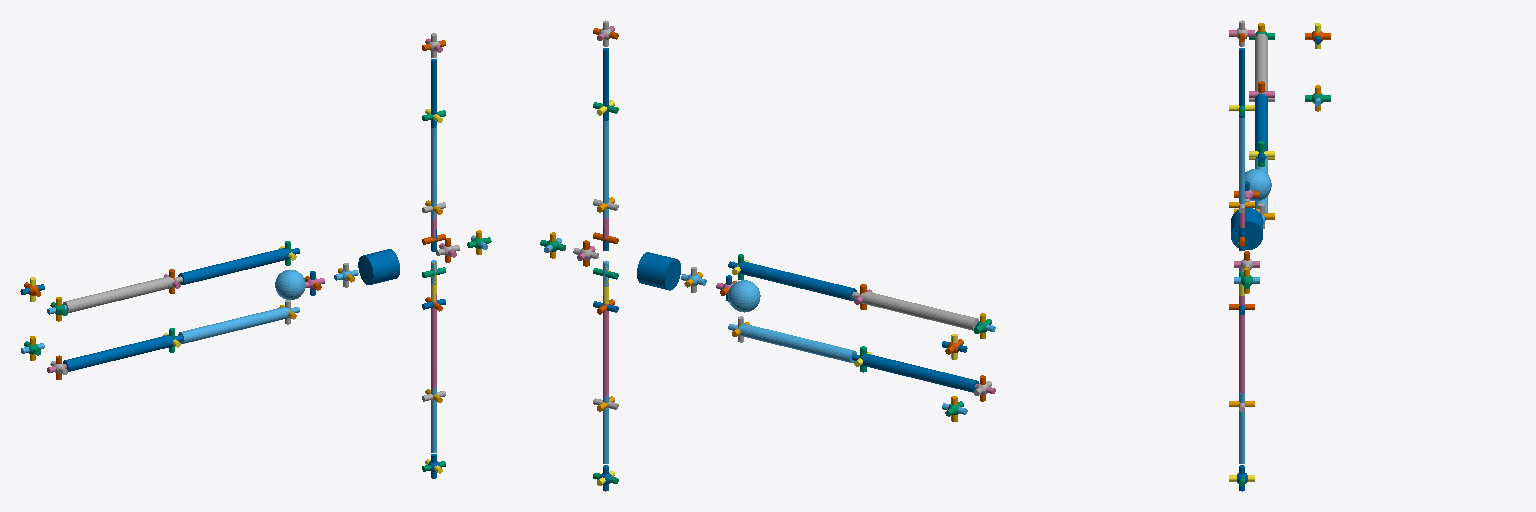
--- Facts derived from the render (not from the file) ---
3 views of the same robot in one strip: view 1: azimuth 30°, elevation 25°; view 2: azimuth 150°, elevation 25°; view 3: azimuth 270°, elevation 25° (orthographic).
Model bvh_human_3dof_tpose with 70 links and 69 joints (68 revolute, 1 floating), rooted at world, posed every joint at zero.
Visible links, largest first — view 1: LeftUpLeg, RightUpLeg, LeftLeg, RightLeg, Spine2, Hips; view 2: LeftUpLeg, RightUpLeg, LeftLeg, RightLeg, Spine2, Hips, LeftArm, RightArm; view 3: Spine2, LeftUpLeg, LeftLeg, Hips, RightArm.
Boxes of the visible links, <box> form: LeftUpLeg: <box>178,248,299,284</box>; RightUpLeg: <box>178,307,299,343</box>; LeftLeg: <box>63,276,182,312</box>; RightLeg: <box>63,335,182,371</box>; Spine2: <box>358,249,399,284</box>; Hips: <box>275,270,304,299</box>; LeftUpLeg: <box>728,261,856,300</box>; RightUpLeg: <box>728,324,856,362</box>; LeftLeg: <box>852,291,978,330</box>; RightLeg: <box>852,354,978,392</box>; Spine2: <box>637,252,680,290</box>; Hips: <box>728,280,760,312</box>; LeftArm: <box>603,118,608,217</box>; RightArm: <box>603,296,608,396</box>; Spine2: <box>1231,208,1262,249</box>; LeftUpLeg: <box>1255,93,1267,162</box>; LeftLeg: <box>1255,34,1267,93</box>; Hips: <box>1245,169,1271,200</box>; RightArm: <box>1239,296,1244,393</box>.
Size in the robot's own frame: 1.63 by 0.3124 by 1.59 metres.
Geometry: primitives only (box / cylinder / sphere), no mesh files.

URDF robot description (bvh_human_3dof_tpose):
<?xml version='1.0' encoding='utf-8'?>
<robot name="bvh_human_3dof_tpose">

  <mujoco>
    <compiler meshdir="meshes" fusestatic="false" discardvisual="false" strippath="false" balanceinertia="true" />
  </mujoco>

  
  <link name="world" />
  <joint name="floating_base_joint" type="floating">
    <parent link="world" />
    <child link="Hips" />
  </joint>

  <link name="Hips">
    <inertial>
      <origin xyz="0 0 0" rpy="0 0 0" />
      <mass value="1.0" />
      <inertia ixx="0.01" ixy="0.0" ixz="0.0" iyy="0.01" iyz="0.0" izz="0.01" />
    </inertial>
    <visual>
      <geometry>
        <sphere radius="0.05" />
      </geometry>
    </visual>
  </link>

  
  <link name="LeftUpLeg_rz">
    <inertial>
      <origin xyz="0 0 0" rpy="0 0 0" />
      <mass value="1.0" />
      <inertia ixx="0.01" ixy="0.0" ixz="0.0" iyy="0.01" iyz="0.0" izz="0.01" />
    </inertial>
  <visual><origin xyz="0 0 0" rpy="0 0 0" /><geometry><cylinder radius="0.0100" length="0.0800" /></geometry></visual></link>

  <link name="LeftUpLeg_ry">
    <inertial>
      <origin xyz="0 0 0" rpy="0 0 0" />
      <mass value="1.0" />
      <inertia ixx="0.01" ixy="0.0" ixz="0.0" iyy="0.01" iyz="0.0" izz="0.01" />
    </inertial>
  <visual><origin xyz="0 0 0" rpy="-1.5707963 0 0" /><geometry><cylinder radius="0.0100" length="0.0800" /></geometry></visual></link>

  <link name="LeftUpLeg">
    <inertial>
      <origin xyz="0 0 0" rpy="0 0 0" />
      <mass value="1.0" />
      <inertia ixx="0.01" ixy="0.0" ixz="0.0" iyy="0.01" iyz="0.0" izz="0.01" />
    </inertial>
    <visual>
      <origin xyz="0.2 -0.0 -0.0" rpy="0 1.57 0" />
      <geometry>
        <cylinder radius="0.02" length="0.4" />
      </geometry>
    </visual>
  <visual><origin xyz="0 0 0" rpy="0 1.5707963 0" /><geometry><cylinder radius="0.0100" length="0.0800" /></geometry></visual></link>

  
  <joint name="Hips_to_LeftUpLeg_rz" type="revolute">
    <parent link="Hips" />
    <child link="LeftUpLeg_rz" />
    <origin xyz="0.00103457 0.01857820 0.10548506" rpy="0 0 -3.1415927" />
    <axis xyz="0 0 1" />
    <limit lower="-3.14159" upper="3.14159" effort="100" velocity="10" />
  </joint>

  <joint name="LeftUpLeg_rz_to_LeftUpLeg_ry" type="revolute">
    <parent link="LeftUpLeg_rz" />
    <child link="LeftUpLeg_ry" />
    <origin xyz="0 0 0" rpy="0 0 0" />
    <axis xyz="0 1 0" />
    <limit lower="-3.14159" upper="3.14159" effort="100" velocity="10" />
  </joint>

  <joint name="LeftUpLeg_ry_to_LeftUpLeg" type="revolute">
    <parent link="LeftUpLeg_ry" />
    <child link="LeftUpLeg" />
    <origin xyz="0 0 0" rpy="3.1415927 0 0" />
    <axis xyz="1 0 0" />
    <limit lower="-3.14159" upper="3.14159" effort="100" velocity="10" />
  </joint>

  <link name="LeftLeg_rz">
    <inertial>
      <origin xyz="0 0 0" rpy="0 0 0" />
      <mass value="1.0" />
      <inertia ixx="0.01" ixy="0.0" ixz="0.0" iyy="0.01" iyz="0.0" izz="0.01" />
    </inertial>
  <visual><origin xyz="0 0 0" rpy="0 0 0" /><geometry><cylinder radius="0.0100" length="0.0800" /></geometry></visual></link>

  <link name="LeftLeg_ry">
    <inertial>
      <origin xyz="0 0 0" rpy="0 0 0" />
      <mass value="1.0" />
      <inertia ixx="0.01" ixy="0.0" ixz="0.0" iyy="0.01" iyz="0.0" izz="0.01" />
    </inertial>
  <visual><origin xyz="0 0 0" rpy="-1.5707963 0 0" /><geometry><cylinder radius="0.0100" length="0.0800" /></geometry></visual></link>

  <link name="LeftLeg">
    <inertial>
      <origin xyz="0 0 0" rpy="0 0 0" />
      <mass value="1.0" />
      <inertia ixx="0.01" ixy="0.0" ixz="0.0" iyy="0.01" iyz="0.0" izz="0.01" />
    </inertial>
    <visual>
      <origin xyz="0.2 -0.0 -0.0" rpy="0 1.57 0" />
      <geometry>
        <cylinder radius="0.02" length="0.4" />
      </geometry>
    </visual>
  <visual><origin xyz="0 0 0" rpy="0 1.5707963 0" /><geometry><cylinder radius="0.0100" length="0.0800" /></geometry></visual></link>

  
  <joint name="LeftUpLeg_to_LeftLeg_rz" type="revolute">
    <parent link="LeftUpLeg" />
    <child link="LeftLeg_rz" />
    <origin xyz="0.43500000 -0.00000019 0.00000002" rpy="0 0 0" />
    <axis xyz="0 0 1" />
    <limit lower="-3.14159" upper="3.14159" effort="100" velocity="10" />
  </joint>

  <joint name="LeftLeg_rz_to_LeftLeg_ry" type="revolute">
    <parent link="LeftLeg_rz" />
    <child link="LeftLeg_ry" />
    <origin xyz="0 0 0" rpy="0 0 0" />
    <axis xyz="0 1 0" />
    <limit lower="-3.14159" upper="3.14159" effort="100" velocity="10" />
  </joint>

  <joint name="LeftLeg_ry_to_LeftLeg" type="revolute">
    <parent link="LeftLeg_ry" />
    <child link="LeftLeg" />
    <origin xyz="0 0 0" rpy="0 0 0" />
    <axis xyz="1 0 0" />
    <limit lower="-3.14159" upper="3.14159" effort="100" velocity="10" />
  </joint>

  <link name="LeftFoot_rz">
    <inertial>
      <origin xyz="0 0 0" rpy="0 0 0" />
      <mass value="1.0" />
      <inertia ixx="0.01" ixy="0.0" ixz="0.0" iyy="0.01" iyz="0.0" izz="0.01" />
    </inertial>
  <visual><origin xyz="0 0 0" rpy="0 0 0" /><geometry><cylinder radius="0.0100" length="0.0800" /></geometry></visual></link>

  <link name="LeftFoot_ry">
    <inertial>
      <origin xyz="0 0 0" rpy="0 0 0" />
      <mass value="1.0" />
      <inertia ixx="0.01" ixy="0.0" ixz="0.0" iyy="0.01" iyz="0.0" izz="0.01" />
    </inertial>
  <visual><origin xyz="0 0 0" rpy="-1.5707963 0 0" /><geometry><cylinder radius="0.0100" length="0.0800" /></geometry></visual></link>

  <link name="LeftFoot">
    <inertial>
      <origin xyz="0 0 0" rpy="0 0 0" />
      <mass value="1.0" />
      <inertia ixx="0.01" ixy="0.0" ixz="0.0" iyy="0.01" iyz="0.0" izz="0.01" />
    </inertial>
    <visual>
      <geometry>
        <sphere radius="0.02" />
      </geometry>
    </visual>
  <visual><origin xyz="0 0 0" rpy="0 1.5707963 0" /><geometry><cylinder radius="0.0100" length="0.0800" /></geometry></visual></link>

  
  <joint name="LeftLeg_to_LeftFoot_rz" type="revolute">
    <parent link="LeftLeg" />
    <child link="LeftFoot_rz" />
    <origin xyz="0.42372200 -0.00000004 0.00000003" rpy="0 0 1.5707963" />
    <axis xyz="0 0 1" />
    <limit lower="-3.14159" upper="3.14159" effort="100" velocity="10" />
  </joint>

  <joint name="LeftFoot_rz_to_LeftFoot_ry" type="revolute">
    <parent link="LeftFoot_rz" />
    <child link="LeftFoot_ry" />
    <origin xyz="0 0 0" rpy="0 0 0" />
    <axis xyz="0 1 0" />
    <limit lower="-3.14159" upper="3.14159" effort="100" velocity="10" />
  </joint>

  <joint name="LeftFoot_ry_to_LeftFoot" type="revolute">
    <parent link="LeftFoot_ry" />
    <child link="LeftFoot" />
    <origin xyz="0 0 0" rpy="0 0 0" />
    <axis xyz="1 0 0" />
    <limit lower="-3.14159" upper="3.14159" effort="100" velocity="10" />
  </joint>

  <link name="LeftToe_rz">
    <inertial>
      <origin xyz="0 0 0" rpy="0 0 0" />
      <mass value="1.0" />
      <inertia ixx="0.01" ixy="0.0" ixz="0.0" iyy="0.01" iyz="0.0" izz="0.01" />
    </inertial>
  <visual><origin xyz="0 0 0" rpy="0 0 0" /><geometry><cylinder radius="0.0100" length="0.0800" /></geometry></visual></link>

  <link name="LeftToe_ry">
    <inertial>
      <origin xyz="0 0 0" rpy="0 0 0" />
      <mass value="1.0" />
      <inertia ixx="0.01" ixy="0.0" ixz="0.0" iyy="0.01" iyz="0.0" izz="0.01" />
    </inertial>
  <visual><origin xyz="0 0 0" rpy="-1.5707963 0 0" /><geometry><cylinder radius="0.0100" length="0.0800" /></geometry></visual></link>

  <link name="LeftToe">
    <inertial>
      <origin xyz="0 0 0" rpy="0 0 0" />
      <mass value="1.0" />
      <inertia ixx="0.01" ixy="0.0" ixz="0.0" iyy="0.01" iyz="0.0" izz="0.01" />
    </inertial>
    <visual>
      <geometry>
        <sphere radius="0.02" />
      </geometry>
    </visual>
  <visual><origin xyz="0 0 0" rpy="0 1.5707963 0" /><geometry><cylinder radius="0.0100" length="0.0800" /></geometry></visual></link>

  
  <joint name="LeftFoot_to_LeftToe_rz" type="revolute">
    <parent link="LeftFoot" />
    <child link="LeftToe_rz" />
    <origin xyz="0.17300009 0.00000002 0.00000006" rpy="0 0 0" />
    <axis xyz="0 0 1" />
    <limit lower="-3.14159" upper="3.14159" effort="100" velocity="10" />
  </joint>

  <joint name="LeftToe_rz_to_LeftToe_ry" type="revolute">
    <parent link="LeftToe_rz" />
    <child link="LeftToe_ry" />
    <origin xyz="0 0 0" rpy="0 0 0" />
    <axis xyz="0 1 0" />
    <limit lower="-3.14159" upper="3.14159" effort="100" velocity="10" />
  </joint>

  <joint name="LeftToe_ry_to_LeftToe" type="revolute">
    <parent link="LeftToe_ry" />
    <child link="LeftToe" />
    <origin xyz="0 0 0" rpy="0 0 0" />
    <axis xyz="1 0 0" />
    <limit lower="-3.14159" upper="3.14159" effort="100" velocity="10" />
  </joint>

  <link name="LeftToe_End">
    <inertial>
      <origin xyz="0 0 0" rpy="0 0 0" />
      <mass value="1.0" />
      <inertia ixx="0.01" ixy="0.0" ixz="0.0" iyy="0.01" iyz="0.0" izz="0.01" />
    </inertial>
    <visual>
      <geometry>
        <sphere radius="0.02" />
      </geometry>
    </visual>
  <visual><origin xyz="0 0 0" rpy="0 0 0" /><geometry><cylinder radius="0.0100" length="0.0800" /></geometry></visual></link>

  <joint name="LeftToe_to_LeftToe_End" type="revolute">
    <parent link="LeftToe" />
    <child link="LeftToe_End" />
    <origin xyz="0 0 0" rpy="0 0 0" />
  </joint>

  
  <link name="RightUpLeg_rz">
    <inertial>
      <origin xyz="0 0 0" rpy="0 0 0" />
      <mass value="1.0" />
      <inertia ixx="0.01" ixy="0.0" ixz="0.0" iyy="0.01" iyz="0.0" izz="0.01" />
    </inertial>
  <visual><origin xyz="0 0 0" rpy="0 0 0" /><geometry><cylinder radius="0.0100" length="0.0800" /></geometry></visual></link>

  <link name="RightUpLeg_ry">
    <inertial>
      <origin xyz="0 0 0" rpy="0 0 0" />
      <mass value="1.0" />
      <inertia ixx="0.01" ixy="0.0" ixz="0.0" iyy="0.01" iyz="0.0" izz="0.01" />
    </inertial>
  <visual><origin xyz="0 0 0" rpy="-1.5707963 0 0" /><geometry><cylinder radius="0.0100" length="0.0800" /></geometry></visual></link>

  <link name="RightUpLeg">
    <inertial>
      <origin xyz="0 0 0" rpy="0 0 0" />
      <mass value="1.0" />
      <inertia ixx="0.01" ixy="0.0" ixz="0.0" iyy="0.01" iyz="0.0" izz="0.01" />
    </inertial>
    <visual>
      <origin xyz="0.2 -0.0 -0.0" rpy="0 1.57 0" />
      <geometry>
        <cylinder radius="0.02" length="0.4" />
      </geometry>
    </visual>
  <visual><origin xyz="0 0 0" rpy="0 1.5707963 0" /><geometry><cylinder radius="0.0100" length="0.0800" /></geometry></visual></link>

  
  <joint name="Hips_to_RightUpLeg_rz" type="revolute">
    <parent link="Hips" />
    <child link="RightUpLeg_rz" />
    <origin xyz="0.00103459 0.01857818 -0.10548504" rpy="0 0 -3.1415927" />
    <axis xyz="0 0 1" />
    <limit lower="-3.14159" upper="3.14159" effort="100" velocity="10" />
  </joint>

  <joint name="RightUpLeg_rz_to_RightUpLeg_ry" type="revolute">
    <parent link="RightUpLeg_rz" />
    <child link="RightUpLeg_ry" />
    <origin xyz="0 0 0" rpy="0 0 0" />
    <axis xyz="0 1 0" />
    <limit lower="-3.14159" upper="3.14159" effort="100" velocity="10" />
  </joint>

  <joint name="RightUpLeg_ry_to_RightUpLeg" type="revolute">
    <parent link="RightUpLeg_ry" />
    <child link="RightUpLeg" />
    
    <origin xyz="0 0 0" rpy="-3.1415927 0 0" />
    <axis xyz="1 0 0" />
    <limit lower="-3.14159" upper="3.14159" effort="100" velocity="10" />
  </joint>

  <link name="RightLeg_rz">
    <inertial>
      <origin xyz="0 0 0" rpy="0 0 0" />
      <mass value="1.0" />
      <inertia ixx="0.01" ixy="0.0" ixz="0.0" iyy="0.01" iyz="0.0" izz="0.01" />
    </inertial>
  <visual><origin xyz="0 0 0" rpy="0 0 0" /><geometry><cylinder radius="0.0100" length="0.0800" /></geometry></visual></link>

  <link name="RightLeg_ry">
    <inertial>
      <origin xyz="0 0 0" rpy="0 0 0" />
      <mass value="1.0" />
      <inertia ixx="0.01" ixy="0.0" ixz="0.0" iyy="0.01" iyz="0.0" izz="0.01" />
    </inertial>
  <visual><origin xyz="0 0 0" rpy="-1.5707963 0 0" /><geometry><cylinder radius="0.0100" length="0.0800" /></geometry></visual></link>

  <link name="RightLeg">
    <inertial>
      <origin xyz="0 0 0" rpy="0 0 0" />
      <mass value="1.0" />
      <inertia ixx="0.01" ixy="0.0" ixz="0.0" iyy="0.01" iyz="0.0" izz="0.01" />
    </inertial>
    <visual>
      <origin xyz="0.2 -0.0 -0.0" rpy="0 1.57 0" />
      <geometry>
        <cylinder radius="0.02" length="0.4" />
      </geometry>
    </visual>
  <visual><origin xyz="0 0 0" rpy="0 1.5707963 0" /><geometry><cylinder radius="0.0100" length="0.0800" /></geometry></visual></link>

  
  <joint name="RightUpLeg_to_RightLeg_rz" type="revolute">
    <parent link="RightUpLeg" />
    <child link="RightLeg_rz" />
    <origin xyz="0.43500042 -0.00000015 0.00000010" rpy="0 0 0" />
    <axis xyz="0 0 1" />
    <limit lower="-3.14159" upper="3.14159" effort="100" velocity="10" />
  </joint>

  <joint name="RightLeg_rz_to_RightLeg_ry" type="revolute">
    <parent link="RightLeg_rz" />
    <child link="RightLeg_ry" />
    <origin xyz="0 0 0" rpy="0 0 0" />
    <axis xyz="0 1 0" />
    <limit lower="-3.14159" upper="3.14159" effort="100" velocity="10" />
  </joint>

  <joint name="RightLeg_ry_to_RightLeg" type="revolute">
    <parent link="RightLeg_ry" />
    <child link="RightLeg" />
    <origin xyz="0 0 0" rpy="0 0 0" />
    <axis xyz="1 0 0" />
    <limit lower="-3.14159" upper="3.14159" effort="100" velocity="10" />
  </joint>

  <link name="RightFoot_rz">
    <inertial>
      <origin xyz="0 0 0" rpy="0 0 0" />
      <mass value="1.0" />
      <inertia ixx="0.01" ixy="0.0" ixz="0.0" iyy="0.01" iyz="0.0" izz="0.01" />
    </inertial>
  <visual><origin xyz="0 0 0" rpy="0 0 0" /><geometry><cylinder radius="0.0100" length="0.0800" /></geometry></visual></link>

  <link name="RightFoot_ry">
    <inertial>
      <origin xyz="0 0 0" rpy="0 0 0" />
      <mass value="1.0" />
      <inertia ixx="0.01" ixy="0.0" ixz="0.0" iyy="0.01" iyz="0.0" izz="0.01" />
    </inertial>
  <visual><origin xyz="0 0 0" rpy="-1.5707963 0 0" /><geometry><cylinder radius="0.0100" length="0.0800" /></geometry></visual></link>

  <link name="RightFoot">
    <inertial>
      <origin xyz="0 0 0" rpy="0 0 0" />
      <mass value="1.0" />
      <inertia ixx="0.01" ixy="0.0" ixz="0.0" iyy="0.01" iyz="0.0" izz="0.01" />
    </inertial>
    <visual>
      <geometry>
        <sphere radius="0.02" />
      </geometry>
    </visual>
  <visual><origin xyz="0 0 0" rpy="0 1.5707963 0" /><geometry><cylinder radius="0.0100" length="0.0800" /></geometry></visual></link>

  
  <joint name="RightLeg_to_RightFoot_rz" type="revolute">
    <parent link="RightLeg" />
    <child link="RightFoot_rz" />
    <origin xyz="0.42372261 -0.00000008 0.00000010" rpy="0 0 1.5707963" />
    <axis xyz="0 0 1" />
    <limit lower="-3.14159" upper="3.14159" effort="100" velocity="10" />
  </joint>

  <joint name="RightFoot_rz_to_RightFoot_ry" type="revolute">
    <parent link="RightFoot_rz" />
    <child link="RightFoot_ry" />
    <origin xyz="0 0 0" rpy="0 0 0" />
    <axis xyz="0 1 0" />
    <limit lower="-3.14159" upper="3.14159" effort="100" velocity="10" />
  </joint>

  <joint name="RightFoot_ry_to_RightFoot" type="revolute">
    <parent link="RightFoot_ry" />
    <child link="RightFoot" />
    <origin xyz="0 0 0" rpy="0 0 0" />
    <axis xyz="1 0 0" />
    <limit lower="-3.14159" upper="3.14159" effort="100" velocity="10" />
  </joint>

  <link name="RightToe_rz">
    <inertial>
      <origin xyz="0 0 0" rpy="0 0 0" />
      <mass value="1.0" />
      <inertia ixx="0.01" ixy="0.0" ixz="0.0" iyy="0.01" iyz="0.0" izz="0.01" />
    </inertial>
  <visual><origin xyz="0 0 0" rpy="0 0 0" /><geometry><cylinder radius="0.0100" length="0.0800" /></geometry></visual></link>

  <link name="RightToe_ry">
    <inertial>
      <origin xyz="0 0 0" rpy="0 0 0" />
      <mass value="1.0" />
      <inertia ixx="0.01" ixy="0.0" ixz="0.0" iyy="0.01" iyz="0.0" izz="0.01" />
    </inertial>
  <visual><origin xyz="0 0 0" rpy="-1.5707963 0 0" /><geometry><cylinder radius="0.0100" length="0.0800" /></geometry></visual></link>

  <link name="RightToe">
    <inertial>
      <origin xyz="0 0 0" rpy="0 0 0" />
      <mass value="1.0" />
      <inertia ixx="0.01" ixy="0.0" ixz="0.0" iyy="0.01" iyz="0.0" izz="0.01" />
    </inertial>
    <visual>
      <geometry>
        <sphere radius="0.02" />
      </geometry>
    </visual>
  <visual><origin xyz="0 0 0" rpy="0 1.5707963 0" /><geometry><cylinder radius="0.0100" length="0.0800" /></geometry></visual></link>

  
  <joint name="RightFoot_to_RightToe_rz" type="revolute">
    <parent link="RightFoot" />
    <child link="RightToe_rz" />
    <origin xyz="0.17299995 -0.00000005 0.00000000" rpy="0 0 0" />
    <axis xyz="0 0 1" />
    <limit lower="-3.14159" upper="3.14159" effort="100" velocity="10" />
  </joint>

  <joint name="RightToe_rz_to_RightToe_ry" type="revolute">
    <parent link="RightToe_rz" />
    <child link="RightToe_ry" />
    <origin xyz="0 0 0" rpy="0 0 0" />
    <axis xyz="0 1 0" />
    <limit lower="-3.14159" upper="3.14159" effort="100" velocity="10" />
  </joint>

  <joint name="RightToe_ry_to_RightToe" type="revolute">
    <parent link="RightToe_ry" />
    <child link="RightToe" />
    <origin xyz="0 0 0" rpy="0 0 0" />
    <axis xyz="1 0 0" />
    <limit lower="-3.14159" upper="3.14159" effort="100" velocity="10" />
  </joint>

  <link name="RightToe_End">
    <inertial>
      <origin xyz="0 0 0" rpy="0 0 0" />
      <mass value="1.0" />
      <inertia ixx="0.01" ixy="0.0" ixz="0.0" iyy="0.01" iyz="0.0" izz="0.01" />
    </inertial>
    <visual>
      <geometry>
        <sphere radius="0.02" />
      </geometry>
    </visual>
  <visual><origin xyz="0 0 0" rpy="0 0 0" /><geometry><cylinder radius="0.0100" length="0.0800" /></geometry></visual></link>

  <joint name="RightToe_to_RightToe_End" type="revolute">
    <parent link="RightToe" />
    <child link="RightToe_End" />
    <origin xyz="0 0 0" rpy="0 0 0" />
  </joint>

  
  <link name="Spine_rz">
    <inertial>
      <origin xyz="0 0 0" rpy="0 0 0" />
      <mass value="1.0" />
      <inertia ixx="0.01" ixy="0.0" ixz="0.0" iyy="0.01" iyz="0.0" izz="0.01" />
    </inertial>
  <visual><origin xyz="0 0 0" rpy="0 0 0" /><geometry><cylinder radius="0.0100" length="0.0800" /></geometry></visual></link>

  <link name="Spine_ry">
    <inertial>
      <origin xyz="0 0 0" rpy="0 0 0" />
      <mass value="1.0" />
      <inertia ixx="0.01" ixy="0.0" ixz="0.0" iyy="0.01" iyz="0.0" izz="0.01" />
    </inertial>
  <visual><origin xyz="0 0 0" rpy="-1.5707963 0 0" /><geometry><cylinder radius="0.0100" length="0.0800" /></geometry></visual></link>

  <link name="Spine">
    <inertial>
      <origin xyz="0 0 0" rpy="0 0 0" />
      <mass value="1.0" />
      <inertia ixx="0.01" ixy="0.0" ixz="0.0" iyy="0.01" iyz="0.0" izz="0.01" />
    </inertial>
    <visual>
      <geometry>
        <sphere radius="0.02" />
      </geometry>
    </visual>
  <visual><origin xyz="0 0 0" rpy="0 1.5707963 0" /><geometry><cylinder radius="0.0100" length="0.0800" /></geometry></visual></link>

  
  <joint name="Hips_to_Spine_rz" type="revolute">
    <parent link="Hips" />
    <child link="Spine_rz" />
    <origin xyz="0.06901967 -0.02603743 0.00000001" rpy="0 0 0" />
    <axis xyz="0 0 1" />
    <limit lower="-3.14159" upper="3.14159" effort="100" velocity="10" />
  </joint>

  <joint name="Spine_rz_to_Spine_ry" type="revolute">
    <parent link="Spine_rz" />
    <child link="Spine_ry" />
    <origin xyz="0 0 0" rpy="0 0 0" />
    <axis xyz="0 1 0" />
    <limit lower="-3.14159" upper="3.14159" effort="100" velocity="10" />
  </joint>

  <joint name="Spine_ry_to_Spine" type="revolute">
    <parent link="Spine_ry" />
    <child link="Spine" />
    <origin xyz="0 0 0" rpy="0 0 0" />
    <axis xyz="1 0 0" />
    <limit lower="-3.14159" upper="3.14159" effort="100" velocity="10" />
  </joint>

  <link name="Spine1_rz">
    <inertial>
      <origin xyz="0 0 0" rpy="0 0 0" />
      <mass value="1.0" />
      <inertia ixx="0.01" ixy="0.0" ixz="0.0" iyy="0.01" iyz="0.0" izz="0.01" />
    </inertial>
  <visual><origin xyz="0 0 0" rpy="0 0 0" /><geometry><cylinder radius="0.0100" length="0.0800" /></geometry></visual></link>

  <link name="Spine1_ry">
    <inertial>
      <origin xyz="0 0 0" rpy="0 0 0" />
      <mass value="1.0" />
      <inertia ixx="0.01" ixy="0.0" ixz="0.0" iyy="0.01" iyz="0.0" izz="0.01" />
    </inertial>
  <visual><origin xyz="0 0 0" rpy="-1.5707963 0 0" /><geometry><cylinder radius="0.0100" length="0.0800" /></geometry></visual></link>

  <link name="Spine1">
    <inertial>
      <origin xyz="0 0 0" rpy="0 0 0" />
      <mass value="1.0" />
      <inertia ixx="0.01" ixy="0.0" ixz="0.0" iyy="0.01" iyz="0.0" izz="0.01" />
    </inertial>
    <visual>
      <geometry>
        <sphere radius="0.02" />
      </geometry>
    </visual>
  <visual><origin xyz="0 0 0" rpy="0 1.5707963 0" /><geometry><cylinder radius="0.0100" length="0.0800" /></geometry></visual></link>

  
  <joint name="Spine_to_Spine1_rz" type="revolute">
    <parent link="Spine" />
    <child link="Spine1_rz" />
    <origin xyz="0.12588100 0.00000016 -0.00000005" rpy="0 0 0" />
    <axis xyz="0 0 1" />
    <limit lower="-3.14159" upper="3.14159" effort="100" velocity="10" />
  </joint>

  <joint name="Spine1_rz_to_Spine1_ry" type="revolute">
    <parent link="Spine1_rz" />
    <child link="Spine1_ry" />
    <origin xyz="0 0 0" rpy="0 0 0" />
    <axis xyz="0 1 0" />
    <limit lower="-3.14159" upper="3.14159" effort="100" velocity="10" />
  </joint>

  <joint name="Spine1_ry_to_Spine1" type="revolute">
    <parent link="Spine1_ry" />
    <child link="Spine1" />
    <origin xyz="0 0 0" rpy="0 0 0" />
    <axis xyz="1 0 0" />
    <limit lower="-3.14159" upper="3.14159" effort="100" velocity="10" />
  </joint>

  <link name="Spine2_rz">
    <inertial>
      <origin xyz="0 0 0" rpy="0 0 0" />
      <mass value="1.0" />
      <inertia ixx="0.01" ixy="0.0" ixz="0.0" iyy="0.01" iyz="0.0" izz="0.01" />
    </inertial>
  <visual><origin xyz="0 0 0" rpy="0 0 0" /><geometry><cylinder radius="0.0100" length="0.0800" /></geometry></visual></link>

  <link name="Spine2_ry">
    <inertial>
      <origin xyz="0 0 0" rpy="0 0 0" />
      <mass value="1.0" />
      <inertia ixx="0.01" ixy="0.0" ixz="0.0" iyy="0.01" iyz="0.0" izz="0.01" />
    </inertial>
  <visual><origin xyz="0 0 0" rpy="-1.5707963 0 0" /><geometry><cylinder radius="0.0100" length="0.0800" /></geometry></visual></link>

  <link name="Spine2">
    <inertial>
      <origin xyz="0 0 0" rpy="0 0 0" />
      <mass value="1.0" />
      <inertia ixx="0.01" ixy="0.0" ixz="0.0" iyy="0.01" iyz="0.0" izz="0.01" />
    </inertial>
    <visual>
      <origin xyz="0.0 -0.0 -0.0" rpy="0 1.57 0" />
      <geometry>
        <cylinder radius="0.05" length="0.1" />
      </geometry>
    </visual>
  <visual><origin xyz="0 0 0" rpy="0 1.5707963 0" /><geometry><cylinder radius="0.0100" length="0.0800" /></geometry></visual></link>

  
  <joint name="Spine1_to_Spine2_rz" type="revolute">
    <parent link="Spine1" />
    <child link="Spine2_rz" />
    <origin xyz="0.12343201 -0.00000011 -0.00000005" rpy="0 0 0" />
    <axis xyz="0 0 1" />
    <limit lower="-3.14159" upper="3.14159" effort="100" velocity="10" />
  </joint>

  <joint name="Spine2_rz_to_Spine2_ry" type="revolute">
    <parent link="Spine2_rz" />
    <child link="Spine2_ry" />
    <origin xyz="0 0 0" rpy="0 0 0" />
    <axis xyz="0 1 0" />
    <limit lower="-3.14159" upper="3.14159" effort="100" velocity="10" />
  </joint>

  <joint name="Spine2_ry_to_Spine2" type="revolute">
    <parent link="Spine2_ry" />
    <child link="Spine2" />
    <origin xyz="0 0 0" rpy="0 0 0" />
    <axis xyz="1 0 0" />
    <limit lower="-3.14159" upper="3.14159" effort="100" velocity="10" />
  </joint>

  <link name="Neck_rz">
    <inertial>
      <origin xyz="0 0 0" rpy="0 0 0" />
      <mass value="1.0" />
      <inertia ixx="0.01" ixy="0.0" ixz="0.0" iyy="0.01" iyz="0.0" izz="0.01" />
    </inertial>
  <visual><origin xyz="0 0 0" rpy="0 0 0" /><geometry><cylinder radius="0.0100" length="0.0800" /></geometry></visual></link>

  <link name="Neck_ry">
    <inertial>
      <origin xyz="0 0 0" rpy="0 0 0" />
      <mass value="1.0" />
      <inertia ixx="0.01" ixy="0.0" ixz="0.0" iyy="0.01" iyz="0.0" izz="0.01" />
    </inertial>
  <visual><origin xyz="0 0 0" rpy="-1.5707963 0 0" /><geometry><cylinder radius="0.0100" length="0.0800" /></geometry></visual></link>

  <link name="Neck">
    <inertial>
      <origin xyz="0 0 0" rpy="0 0 0" />
      <mass value="1.0" />
      <inertia ixx="0.01" ixy="0.0" ixz="0.0" iyy="0.01" iyz="0.0" izz="0.01" />
    </inertial>
    <visual>
      <geometry>
        <sphere radius="0.02" />
      </geometry>
    </visual>
  <visual><origin xyz="0 0 0" rpy="0 1.5707963 0" /><geometry><cylinder radius="0.0100" length="0.0800" /></geometry></visual></link>

  
  <joint name="Spine2_to_Neck_rz" type="revolute">
    <parent link="Spine2" />
    <child link="Neck_rz" />
    <origin xyz="0.25832895 0.00000008 0.00000006" rpy="0 0 0" />
    <axis xyz="0 0 1" />
    <limit lower="-3.14159" upper="3.14159" effort="100" velocity="10" />
  </joint>

  <joint name="Neck_rz_to_Neck_ry" type="revolute">
    <parent link="Neck_rz" />
    <child link="Neck_ry" />
    <origin xyz="0 0 0" rpy="0 0 0" />
    <axis xyz="0 1 0" />
    <limit lower="-3.14159" upper="3.14159" effort="100" velocity="10" />
  </joint>

  <joint name="Neck_ry_to_Neck" type="revolute">
    <parent link="Neck_ry" />
    <child link="Neck" />
    <origin xyz="0 0 0" rpy="0 0 0" />
    <axis xyz="1 0 0" />
    <limit lower="-3.14159" upper="3.14159" effort="100" velocity="10" />
  </joint>

  <link name="Head_rz">
    <inertial>
      <origin xyz="0 0 0" rpy="0 0 0" />
      <mass value="1.0" />
      <inertia ixx="0.01" ixy="0.0" ixz="0.0" iyy="0.01" iyz="0.0" izz="0.01" />
    </inertial>
  <visual><origin xyz="0 0 0" rpy="0 0 0" /><geometry><cylinder radius="0.0100" length="0.0800" /></geometry></visual></link>

  <link name="Head_ry">
    <inertial>
      <origin xyz="0 0 0" rpy="0 0 0" />
      <mass value="1.0" />
      <inertia ixx="0.01" ixy="0.0" ixz="0.0" iyy="0.01" iyz="0.0" izz="0.01" />
    </inertial>
  <visual><origin xyz="0 0 0" rpy="-1.5707963 0 0" /><geometry><cylinder radius="0.0100" length="0.0800" /></geometry></visual></link>

  <link name="Head">
    <inertial>
      <origin xyz="0 0 0" rpy="0 0 0" />
      <mass value="1.0" />
      <inertia ixx="0.01" ixy="0.0" ixz="0.0" iyy="0.01" iyz="0.0" izz="0.01" />
    </inertial>
    <visual>
      <geometry>
        <sphere radius="0.02" />
      </geometry>
    </visual>
  <visual><origin xyz="0 0 0" rpy="0 1.5707963 0" /><geometry><cylinder radius="0.0100" length="0.0800" /></geometry></visual></link>

  
  <joint name="Neck_to_Head_rz" type="revolute">
    <parent link="Neck" />
    <child link="Head_rz" />
    <origin xyz="0.11766613 -0.00000004 -0.00000002" rpy="0 0 0" />
    <axis xyz="0 0 1" />
    <limit lower="-3.14159" upper="3.14159" effort="100" velocity="10" />
  </joint>

  <joint name="Head_rz_to_Head_ry" type="revolute">
    <parent link="Head_rz" />
    <child link="Head_ry" />
    <origin xyz="0 0 0" rpy="0 0 0" />
    <axis xyz="0 1 0" />
    <limit lower="-3.14159" upper="3.14159" effort="100" velocity="10" />
  </joint>

  <joint name="Head_ry_to_Head" type="revolute">
    <parent link="Head_ry" />
    <child link="Head" />
    <origin xyz="0 0 0" rpy="0 0 0" />
    <axis xyz="1 0 0" />
    <limit lower="-3.14159" upper="3.14159" effort="100" velocity="10" />
  </joint>

  <link name="Head_End">
    <inertial>
      <origin xyz="0 0 0" rpy="0 0 0" />
      <mass value="1.0" />
      <inertia ixx="0.01" ixy="0.0" ixz="0.0" iyy="0.01" iyz="0.0" izz="0.01" />
    </inertial>
    <visual>
      <geometry>
        <sphere radius="0.02" />
      </geometry>
    </visual>
  <visual><origin xyz="0 0 0" rpy="0 0 0" /><geometry><cylinder radius="0.0100" length="0.0800" /></geometry></visual></link>

  <joint name="Head_to_Head_End" type="revolute">
    <parent link="Head" />
    <child link="Head_End" />
    <origin xyz="0 0 0" rpy="0 0 0" />
  </joint>

  
  <link name="LeftShoulder_rz">
    <inertial>
      <origin xyz="0 0 0" rpy="0 0 0" />
      <mass value="1.0" />
      <inertia ixx="0.01" ixy="0.0" ixz="0.0" iyy="0.01" iyz="0.0" izz="0.01" />
    </inertial>
  <visual><origin xyz="0 0 0" rpy="0 0 0" /><geometry><cylinder radius="0.0100" length="0.0800" /></geometry></visual></link>

  <link name="LeftShoulder_ry">
    <inertial>
      <origin xyz="0 0 0" rpy="0 0 0" />
      <mass value="1.0" />
      <inertia ixx="0.01" ixy="0.0" ixz="0.0" iyy="0.01" iyz="0.0" izz="0.01" />
    </inertial>
  <visual><origin xyz="0 0 0" rpy="-1.5707963 0 0" /><geometry><cylinder radius="0.0100" length="0.0800" /></geometry></visual></link>

  <link name="LeftShoulder">
    <inertial>
      <origin xyz="0 0 0" rpy="0 0 0" />
      <mass value="1.0" />
      <inertia ixx="0.01" ixy="0.0" ixz="0.0" iyy="0.01" iyz="0.0" izz="0.01" />
    </inertial>
    <visual>
      <origin xyz="0.05 -0.0 -0.0" rpy="0 1.57 0" />
      <geometry>
        <cylinder radius="0.01" length="0.1" />
      </geometry>
    </visual>
  <visual><origin xyz="0 0 0" rpy="0 1.5707963 0" /><geometry><cylinder radius="0.0100" length="0.0800" /></geometry></visual></link>

  
  <joint name="Spine2_to_LeftShoulder_rz" type="revolute">
    <parent link="Spine2" />
    <child link="LeftShoulder_rz" />
    <origin xyz="0.19745897 -0.01480371 0.06000116" rpy="0 0 -1.5707963" />
    <axis xyz="0 0 1" />
    <limit lower="-3.14159" upper="3.14159" effort="100" velocity="10" />
  </joint>

  <joint name="LeftShoulder_rz_to_LeftShoulder_ry" type="revolute">
    <parent link="LeftShoulder_rz" />
    <child link="LeftShoulder_ry" />
    <origin xyz="0 0 0" rpy="0 -1.5707963 0" />
    <axis xyz="0 1 0" />
    <limit lower="-3.14159" upper="3.14159" effort="100" velocity="10" />
  </joint>

  <joint name="LeftShoulder_ry_to_LeftShoulder" type="revolute">
    <parent link="LeftShoulder_ry" />
    <child link="LeftShoulder" />
    <origin xyz="0 0 0" rpy="-1.5707963 0 0" />
    <axis xyz="1 0 0" />
    <limit lower="-3.14159" upper="3.14159" effort="100" velocity="10" />
  </joint>

  <link name="LeftArm_rz">
    <inertial>
      <origin xyz="0 0 0" rpy="0 0 0" />
      <mass value="1.0" />
      <inertia ixx="0.01" ixy="0.0" ixz="0.0" iyy="0.01" iyz="0.0" izz="0.01" />
    </inertial>
  <visual><origin xyz="0 0 0" rpy="0 0 0" /><geometry><cylinder radius="0.0100" length="0.0800" /></geometry></visual></link>

  <link name="LeftArm_ry">
    <inertial>
      <origin xyz="0 0 0" rpy="0 0 0" />
      <mass value="1.0" />
      <inertia ixx="0.01" ixy="0.0" ixz="0.0" iyy="0.01" iyz="0.0" izz="0.01" />
    </inertial>
  <visual><origin xyz="0 0 0" rpy="-1.5707963 0 0" /><geometry><cylinder radius="0.0100" length="0.0800" /></geometry></visual></link>

  <link name="LeftArm">
    <inertial>
      <origin xyz="0 0 0" rpy="0 0 0" />
      <mass value="1.0" />
      <inertia ixx="0.01" ixy="0.0" ixz="0.0" iyy="0.01" iyz="0.0" izz="0.01" />
    </inertial>
    <visual>
      <origin xyz="0.15 -0.0 -0.0" rpy="0 1.57 0" />
      <geometry>
        <cylinder radius="0.01" length="0.3" />
      </geometry>
    </visual>
  <visual><origin xyz="0 0 0" rpy="0 1.5707963 0" /><geometry><cylinder radius="0.0100" length="0.0800" /></geometry></visual></link>

  
  <joint name="LeftShoulder_to_LeftArm_rz" type="revolute">
    <parent link="LeftShoulder" />
    <child link="LeftArm_rz" />
    <origin xyz="0.11284124 -0.00000012 -0.00000008" rpy="0 0 0" />
    <axis xyz="0 0 1" />
    <limit lower="-3.14159" upper="3.14159" effort="100" velocity="10" />
  </joint>

  <joint name="LeftArm_rz_to_LeftArm_ry" type="revolute">
    <parent link="LeftArm_rz" />
    <child link="LeftArm_ry" />
    <origin xyz="0 0 0" rpy="0 0 0" />
    <axis xyz="0 1 0" />
    
    <limit lower="-3.14159" upper="3.14159" effort="100" velocity="10" />
  </joint>

  <joint name="LeftArm_ry_to_LeftArm" type="revolute">
    <parent link="LeftArm_ry" />
    <child link="LeftArm" />
    <origin xyz="0 0 0" rpy="0 0 0" />
    <axis xyz="1 0 0" />
    <limit lower="-3.14159" upper="3.14159" effort="100" velocity="10" />
  </joint>

  <link name="LeftForeArm_rz">
    <inertial>
      <origin xyz="0 0 0" rpy="0 0 0" />
      <mass value="1.0" />
      <inertia ixx="0.01" ixy="0.0" ixz="0.0" iyy="0.01" iyz="0.0" izz="0.01" />
    </inertial>
  <visual><origin xyz="0 0 0" rpy="0 0 0" /><geometry><cylinder radius="0.0100" length="0.0800" /></geometry></visual></link>

  <link name="LeftForeArm_ry">
    <inertial>
      <origin xyz="0 0 0" rpy="0 0 0" />
      <mass value="1.0" />
      <inertia ixx="0.01" ixy="0.0" ixz="0.0" iyy="0.01" iyz="0.0" izz="0.01" />
    </inertial>
  <visual><origin xyz="0 0 0" rpy="-1.5707963 0 0" /><geometry><cylinder radius="0.0100" length="0.0800" /></geometry></visual></link>

  <link name="LeftForeArm">
    <inertial>
      <origin xyz="0 0 0" rpy="0 0 0" />
      <mass value="1.0" />
      <inertia ixx="0.01" ixy="0.0" ixz="0.0" iyy="0.01" iyz="0.0" izz="0.01" />
    </inertial>
    <visual>
      <origin xyz="0.1 -0.0 -0.0" rpy="0 1.57 0" />
      <geometry>
        <cylinder radius="0.01" length="0.2" />
      </geometry>
    </visual>
  <visual><origin xyz="0 0 0" rpy="0 1.5707963 0" /><geometry><cylinder radius="0.0100" length="0.0800" /></geometry></visual></link>

  
  <joint name="LeftArm_to_LeftForeArm_rz" type="revolute">
    <parent link="LeftArm" />
    <child link="LeftForeArm_rz" />
    <origin xyz="0.33000046 0.00000002 0.00000022" rpy="0 0 0" />
    <axis xyz="0 0 1" />
    <limit lower="-3.14159" upper="3.14159" effort="100" velocity="10" />
  </joint>

  <joint name="LeftForeArm_rz_to_LeftForeArm_ry" type="revolute">
    <parent link="LeftForeArm_rz" />
    <child link="LeftForeArm_ry" />
    <origin xyz="0 0 0" rpy="0 0 0" />
    <axis xyz="0 1 0" />
    <limit lower="-3.14159" upper="3.14159" effort="100" velocity="10" />
  </joint>

  <joint name="LeftForeArm_ry_to_LeftForeArm" type="revolute">
    <parent link="LeftForeArm_ry" />
    <child link="LeftForeArm" />
    <origin xyz="0 0 0" rpy="0 0 0" />
    <axis xyz="1 0 0" />
    <limit lower="-3.14159" upper="3.14159" effort="100" velocity="10" />
  </joint>

  <link name="LeftHand_rz">
    <inertial>
      <origin xyz="0 0 0" rpy="0 0 0" />
      <mass value="1.0" />
      <inertia ixx="0.01" ixy="0.0" ixz="0.0" iyy="0.01" iyz="0.0" izz="0.01" />
    </inertial>
  <visual><origin xyz="0 0 0" rpy="0 0 0" /><geometry><cylinder radius="0.0100" length="0.0800" /></geometry></visual></link>

  <link name="LeftHand_ry">
    <inertial>
      <origin xyz="0 0 0" rpy="0 0 0" />
      <mass value="1.0" />
      <inertia ixx="0.01" ixy="0.0" ixz="0.0" iyy="0.01" iyz="0.0" izz="0.01" />
    </inertial>
  <visual><origin xyz="0 0 0" rpy="-1.5707963 0 0" /><geometry><cylinder radius="0.0100" length="0.0800" /></geometry></visual></link>

  <link name="LeftHand">
    <inertial>
      <origin xyz="0 0 0" rpy="0 0 0" />
      <mass value="1.0" />
      <inertia ixx="0.01" ixy="0.0" ixz="0.0" iyy="0.01" iyz="0.0" izz="0.01" />
    </inertial>
    <visual>
      <geometry>
        <sphere radius="0.02" />
      </geometry>
    </visual>
  <visual><origin xyz="0 0 0" rpy="0 1.5707963 0" /><geometry><cylinder radius="0.0100" length="0.0800" /></geometry></visual></link>

  
  <joint name="LeftForeArm_to_LeftHand_rz" type="revolute">
    <parent link="LeftForeArm" />
    <child link="LeftHand_rz" />
    <origin xyz="0.25200014 0.00000006 0.00000015" rpy="0 0 0" />
    <axis xyz="0 0 1" />
    <limit lower="-3.14159" upper="3.14159" effort="100" velocity="10" />
  </joint>

  <joint name="LeftHand_rz_to_LeftHand_ry" type="revolute">
    <parent link="LeftHand_rz" />
    <child link="LeftHand_ry" />
    <origin xyz="0 0 0" rpy="0 0 0" />
    <axis xyz="0 1 0" />
    <limit lower="-3.14159" upper="3.14159" effort="100" velocity="10" />
  </joint>

  <joint name="LeftHand_ry_to_LeftHand" type="revolute">
    <parent link="LeftHand_ry" />
    <child link="LeftHand" />
    <origin xyz="0 0 0" rpy="0 0 0" />
    <axis xyz="1 0 0" />
    <limit lower="-3.14159" upper="3.14159" effort="100" velocity="10" />
  </joint>

  <link name="LeftHand_End">
    <inertial>
      <origin xyz="0 0 0" rpy="0 0 0" />
      <mass value="1.0" />
      <inertia ixx="0.01" ixy="0.0" ixz="0.0" iyy="0.01" iyz="0.0" izz="0.01" />
    </inertial>
    <visual>
      <geometry>
        <sphere radius="0.02" />
      </geometry>
    </visual>
  <visual><origin xyz="0 0 0" rpy="0 0 0" /><geometry><cylinder radius="0.0100" length="0.0800" /></geometry></visual></link>

  <joint name="LeftHand_to_LeftHand_End" type="revolute">
    <parent link="LeftHand" />
    <child link="LeftHand_End" />
    <origin xyz="0 0 0" rpy="0 0 0" />
  </joint>

  
  <link name="RightShoulder_rz">
    <inertial>
      <origin xyz="0 0 0" rpy="0 0 0" />
      <mass value="1.0" />
      <inertia ixx="0.01" ixy="0.0" ixz="0.0" iyy="0.01" iyz="0.0" izz="0.01" />
    </inertial>
  <visual><origin xyz="0 0 0" rpy="0 0 0" /><geometry><cylinder radius="0.0100" length="0.0800" /></geometry></visual></link>

  <link name="RightShoulder_ry">
    <inertial>
      <origin xyz="0 0 0" rpy="0 0 0" />
      <mass value="1.0" />
      <inertia ixx="0.01" ixy="0.0" ixz="0.0" iyy="0.01" iyz="0.0" izz="0.01" />
    </inertial>
  <visual><origin xyz="0 0 0" rpy="-1.5707963 0 0" /><geometry><cylinder radius="0.0100" length="0.0800" /></geometry></visual></link>

  <link name="RightShoulder">
    <inertial>
      <origin xyz="0 0 0" rpy="0 0 0" />
      <mass value="1.0" />
      <inertia ixx="0.01" ixy="0.0" ixz="0.0" iyy="0.01" iyz="0.0" izz="0.01" />
    </inertial>
    <visual>
      <origin xyz="0.05 -0.0 -0.0" rpy="0 1.57 0" />
      <geometry>
        <cylinder radius="0.01" length="0.1" />
      </geometry>
    </visual>
  <visual><origin xyz="0 0 0" rpy="0 1.5707963 0" /><geometry><cylinder radius="0.0100" length="0.0800" /></geometry></visual></link>

  
  <joint name="Spine2_to_RightShoulder_rz" type="revolute">
    <parent link="Spine2" />
    <child link="RightShoulder_rz" />
    <origin xyz="0.19746101 -0.01480377 -0.06000068" rpy="0 0 1.5707963" />
    <axis xyz="0 0 1" />
    <limit lower="-3.14159" upper="3.14159" effort="100" velocity="10" />
  </joint>

  <joint name="RightShoulder_rz_to_RightShoulder_ry" type="revolute">
    <parent link="RightShoulder_rz" />
    <child link="RightShoulder_ry" />
    <origin xyz="0 0 0" rpy="0 1.5707963 0" />
    <axis xyz="0 1 0" />
    <limit lower="-3.14159" upper="3.14159" effort="100" velocity="10" />
  </joint>

  <joint name="RightShoulder_ry_to_RightShoulder" type="revolute">
    <parent link="RightShoulder_ry" />
    <child link="RightShoulder" />
    <origin xyz="0 0 0" rpy="-1.5707963 0 0" />
    <axis xyz="1 0 0" />
    <limit lower="-3.14159" upper="3.14159" effort="100" velocity="10" />
  </joint>

  <link name="RightArm_rz">
    <inertial>
      <origin xyz="0 0 0" rpy="0 0 0" />
      <mass value="1.0" />
      <inertia ixx="0.01" ixy="0.0" ixz="0.0" iyy="0.01" iyz="0.0" izz="0.01" />
    </inertial>
  <visual><origin xyz="0 0 0" rpy="0 0 0" /><geometry><cylinder radius="0.0100" length="0.0800" /></geometry></visual></link>

  <link name="RightArm_ry">
    <inertial>
      <origin xyz="0 0 0" rpy="0 0 0" />
      <mass value="1.0" />
      <inertia ixx="0.01" ixy="0.0" ixz="0.0" iyy="0.01" iyz="0.0" izz="0.01" />
    </inertial>
  <visual><origin xyz="0 0 0" rpy="-1.5707963 0 0" /><geometry><cylinder radius="0.0100" length="0.0800" /></geometry></visual></link>

  <link name="RightArm">
    <inertial>
      <origin xyz="0 0 0" rpy="0 0 0" />
      <mass value="1.0" />
      <inertia ixx="0.01" ixy="0.0" ixz="0.0" iyy="0.01" iyz="0.0" izz="0.01" />
    </inertial>
    <visual>
      <origin xyz="0.15 -0.0 -0.0" rpy="0 1.57 0" />
      <geometry>
        <cylinder radius="0.01" length="0.3" />
      </geometry>
    </visual>
  <visual><origin xyz="0 0 0" rpy="0 1.5707963 0" /><geometry><cylinder radius="0.0100" length="0.0800" /></geometry></visual></link>

  
  <joint name="RightShoulder_to_RightArm_rz" type="revolute">
    <parent link="RightShoulder" />
    <child link="RightArm_rz" />
    <origin xyz="0.11284134 -0.00000035 -0.00000008" rpy="0 0 0" />
    <axis xyz="0 0 1" />
    <limit lower="-3.14159" upper="3.14159" effort="100" velocity="10" />
  </joint>

  <joint name="RightArm_rz_to_RightArm_ry" type="revolute">
    <parent link="RightArm_rz" />
    <child link="RightArm_ry" />
    <origin xyz="0 0 0" rpy="0 0 0" />
    <axis xyz="0 1 0" />
    <limit lower="-3.14159" upper="3.14159" effort="100" velocity="10" />
  </joint>

  <joint name="RightArm_ry_to_RightArm" type="revolute">
    <parent link="RightArm_ry" />
    <child link="RightArm" />
    <origin xyz="0 0 0" rpy="0 0 0" />
    <axis xyz="1 0 0" />
    <limit lower="-3.14159" upper="3.14159" effort="100" velocity="10" />
  </joint>

  <link name="RightForeArm_rz">
    <inertial>
      <origin xyz="0 0 0" rpy="0 0 0" />
      <mass value="1.0" />
      <inertia ixx="0.01" ixy="0.0" ixz="0.0" iyy="0.01" iyz="0.0" izz="0.01" />
    </inertial>
  <visual><origin xyz="0 0 0" rpy="0 0 0" /><geometry><cylinder radius="0.0100" length="0.0800" /></geometry></visual></link>

  <link name="RightForeArm_ry">
    <inertial>
      <origin xyz="0 0 0" rpy="0 0 0" />
      <mass value="1.0" />
      <inertia ixx="0.01" ixy="0.0" ixz="0.0" iyy="0.01" iyz="0.0" izz="0.01" />
    </inertial>
  <visual><origin xyz="0 0 0" rpy="-1.5707963 0 0" /><geometry><cylinder radius="0.0100" length="0.0800" /></geometry></visual></link>

  <link name="RightForeArm">
    <inertial>
      <origin xyz="0 0 0" rpy="0 0 0" />
      <mass value="1.0" />
      <inertia ixx="0.01" ixy="0.0" ixz="0.0" iyy="0.01" iyz="0.0" izz="0.01" />
    </inertial>
    <visual>
      <origin xyz="0.1 -0.0 -0.0" rpy="0 1.57 0" />
      <geometry>
        <cylinder radius="0.01" length="0.2" />
      </geometry>
    </visual>
  <visual><origin xyz="0 0 0" rpy="0 1.5707963 0" /><geometry><cylinder radius="0.0100" length="0.0800" /></geometry></visual></link>

  
  <joint name="RightArm_to_RightForeArm_rz" type="revolute">
    <parent link="RightArm" />
    <child link="RightForeArm_rz" />
    <origin xyz="0.33000092 0.00000019 0.00000006" rpy="0 0 0" />
    <axis xyz="0 0 1" />
    <limit lower="-3.14159" upper="3.14159" effort="100" velocity="10" />
  </joint>

  <joint name="RightForeArm_rz_to_RightForeArm_ry" type="revolute">
    <parent link="RightForeArm_rz" />
    <child link="RightForeArm_ry" />
    <origin xyz="0 0 0" rpy="0 0 0" />
    <axis xyz="0 1 0" />
    <limit lower="-3.14159" upper="3.14159" effort="100" velocity="10" />
  </joint>

  <joint name="RightForeArm_ry_to_RightForeArm" type="revolute">
    <parent link="RightForeArm_ry" />
    <child link="RightForeArm" />
    <origin xyz="0 0 0" rpy="0 0 0" />
    <axis xyz="1 0 0" />
    <limit lower="-3.14159" upper="3.14159" effort="100" velocity="10" />
  </joint>

  <link name="RightHand_rz">
    <inertial>
      <origin xyz="0 0 0" rpy="0 0 0" />
      <mass value="1.0" />
      <inertia ixx="0.01" ixy="0.0" ixz="0.0" iyy="0.01" iyz="0.0" izz="0.01" />
    </inertial>
  <visual><origin xyz="0 0 0" rpy="0 0 0" /><geometry><cylinder radius="0.0100" length="0.0800" /></geometry></visual></link>

  <link name="RightHand_ry">
    <inertial>
      <origin xyz="0 0 0" rpy="0 0 0" />
      <mass value="1.0" />
      <inertia ixx="0.01" ixy="0.0" ixz="0.0" iyy="0.01" iyz="0.0" izz="0.01" />
    </inertial>
  <visual><origin xyz="0 0 0" rpy="-1.5707963 0 0" /><geometry><cylinder radius="0.0100" length="0.0800" /></geometry></visual></link>

  <link name="RightHand">
    <inertial>
      <origin xyz="0 0 0" rpy="0 0 0" />
      <mass value="1.0" />
      <inertia ixx="0.01" ixy="0.0" ixz="0.0" iyy="0.01" iyz="0.0" izz="0.01" />
    </inertial>
    <visual>
      <geometry>
        <sphere radius="0.02" />
      </geometry>
    </visual>
  <visual><origin xyz="0 0 0" rpy="0 1.5707963 0" /><geometry><cylinder radius="0.0100" length="0.0800" /></geometry></visual></link>

  
  <joint name="RightForeArm_to_RightHand_rz" type="revolute">
    <parent link="RightForeArm" />
    <child link="RightHand_rz" />
    <origin xyz="0.25199776 0.00000139 0.00000431" rpy="0 0 0" />
    <axis xyz="0 0 1" />
    <limit lower="-3.14159" upper="3.14159" effort="100" velocity="10" />
  </joint>

  <joint name="RightHand_rz_to_RightHand_ry" type="revolute">
    <parent link="RightHand_rz" />
    <child link="RightHand_ry" />
    <origin xyz="0 0 0" rpy="0 0 0" />
    <axis xyz="0 1 0" />
    <limit lower="-3.14159" upper="3.14159" effort="100" velocity="10" />
  </joint>

  <joint name="RightHand_ry_to_RightHand" type="revolute">
    <parent link="RightHand_ry" />
    <child link="RightHand" />
    <origin xyz="0 0 0" rpy="0 0 0" />
    <axis xyz="1 0 0" />
    
    <limit lower="-3.14159" upper="3.14159" effort="100" velocity="10" />
  </joint>

  <link name="RightHand_End">
    <inertial>
      <origin xyz="0 0 0" rpy="0 0 0" />
      <mass value="1.0" />
      <inertia ixx="0.01" ixy="0.0" ixz="0.0" iyy="0.01" iyz="0.0" izz="0.01" />
    </inertial>
    <visual>
      <geometry>
        <sphere radius="0.02" />
      </geometry>
    </visual>
  <visual><origin xyz="0 0 0" rpy="0 0 0" /><geometry><cylinder radius="0.0100" length="0.0800" /></geometry></visual></link>

  <joint name="RightHand_to_RightHand_End" type="revolute">
    <parent link="RightHand" />
    <child link="RightHand_End" />
    <origin xyz="0 0 0" rpy="0 0 0" />
  </joint>


</robot>
